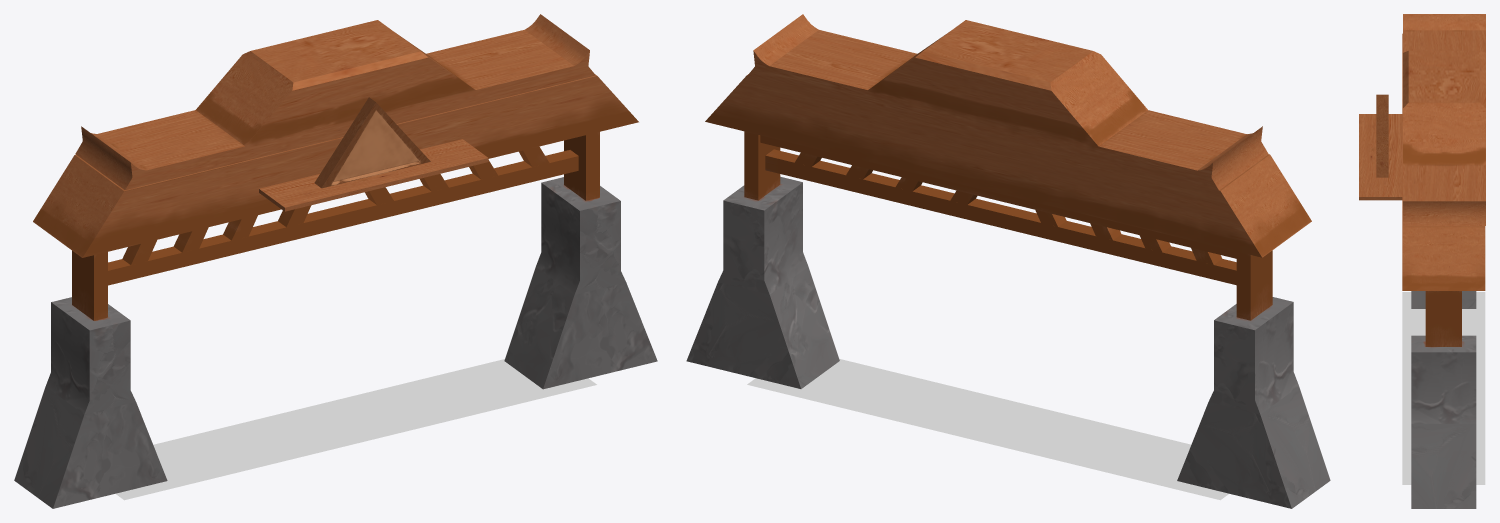
The model's file is Gate Arena2.fbx.
3 renders of one model, left to right at view 1: azimuth 30°, elevation 25°; view 2: azimuth 150°, elevation 25°; view 3: azimuth 270°, elevation 25°, orthographic. The views are drawn at different scales.
Parts seen in each view (by area): view 1: Batu, Cube.001, Papan, Plane, Kayu2, Logo, Papan.001, Kayu, Jari2; view 2: Cube.001, Batu, Papan, Plane, Kayu2, Kayu, Jari2; view 3: Cube.001, Batu, Papan, Plane, Papan.001, Kayu, Logo.
Boxes of the visible parts, box(x1,y1,x2,y2) form: Batu: box(14, 177, 657, 508); Cube.001: box(75, 14, 595, 190); Papan: box(33, 74, 638, 257); Plane: box(115, 359, 596, 500); Kayu2: box(108, 150, 578, 285); Logo: box(314, 97, 430, 188); Papan.001: box(259, 139, 488, 211); Kayu: box(72, 132, 599, 320); Jari2: box(122, 146, 549, 264); Cube.001: box(747, 14, 1268, 190); Batu: box(686, 176, 1330, 508); Papan: box(705, 74, 1311, 257); Plane: box(747, 359, 1228, 500); Kayu2: box(760, 135, 1236, 285); Kayu: box(744, 131, 1272, 320); Jari2: box(795, 152, 1222, 264); Cube.001: box(1403, 14, 1485, 225); Batu: box(1411, 291, 1476, 508); Papan: box(1402, 33, 1485, 290); Plane: box(1402, 292, 1485, 484); Papan.001: box(1359, 114, 1402, 200); Kayu: box(1425, 291, 1461, 346); Logo: box(1376, 94, 1388, 177).
Bounding box in the file's own units: 1406 × 829 × 306.
1 material, 1 textured.
